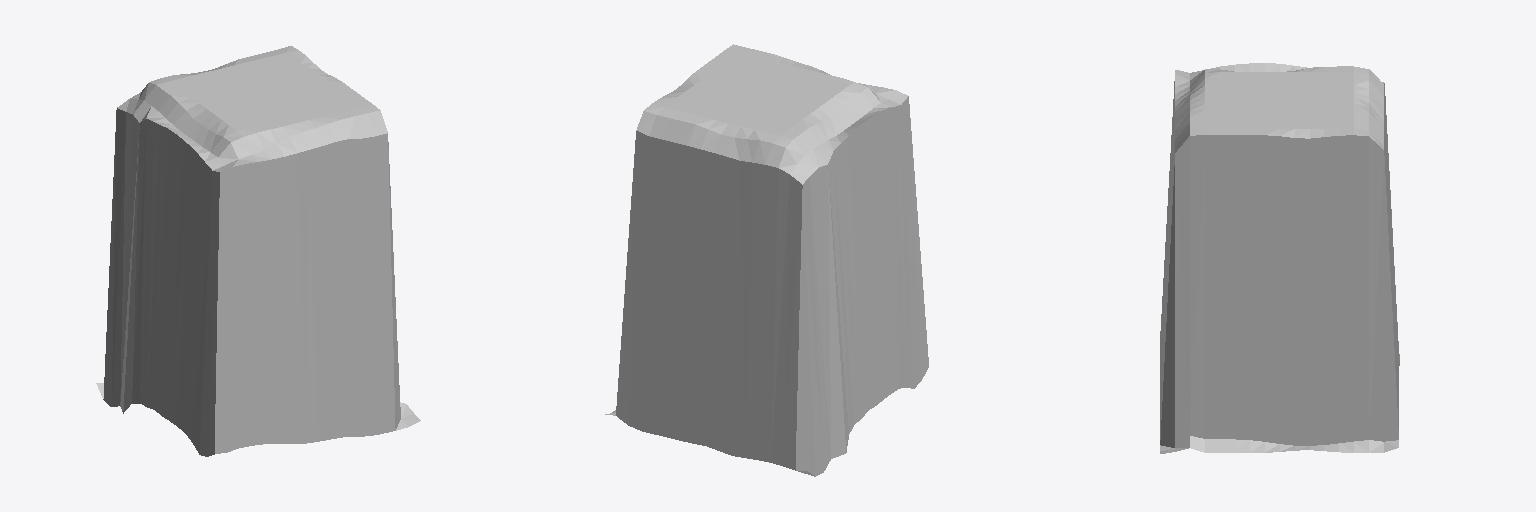
The model's file is castle island.obj.
The picture shows the model from 3 angles: view 1: azimuth 30°, elevation 25°; view 2: azimuth 150°, elevation 25°; view 3: azimuth 270°, elevation 25°; orthographic projection.
Visible parts, largest first — view 1: Plane; view 2: Plane; view 3: Plane.
Boxes of the visible parts, box(x1,y1,x2,y2) form: Plane: box(96, 46, 420, 456); Plane: box(605, 44, 928, 476); Plane: box(1160, 63, 1399, 453).
Size of the model in its own units: 3.99 by 5.76 by 3.92.